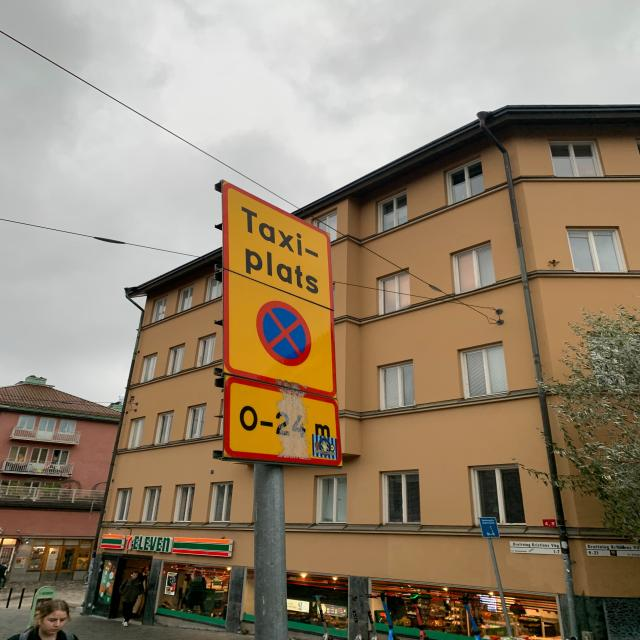lastplats: (220, 182, 336, 398)
